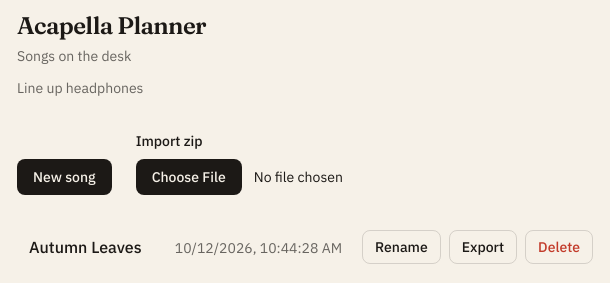
Test case: HomePage › cancels a rename without saving
Check: the text "Autumn Leaves" is shown, box [29,235,142,259]
Click the button with aria-label "Rename Autumn Leaves" at (401, 247), box [362,230,441,264]
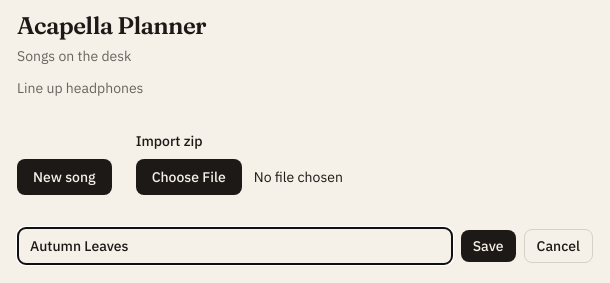
Replace the text in the field named "Song name" with "Something else" at (235, 246), box [17,227,453,265]
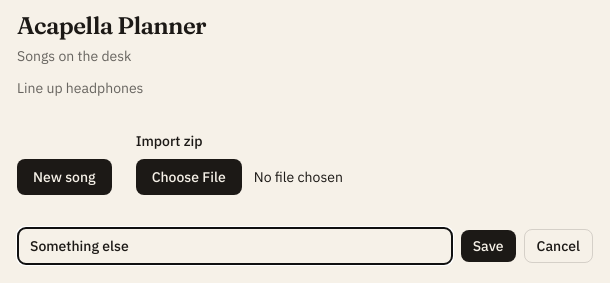
Click the button "Cancel" at (558, 246), box [524,229,593,263]
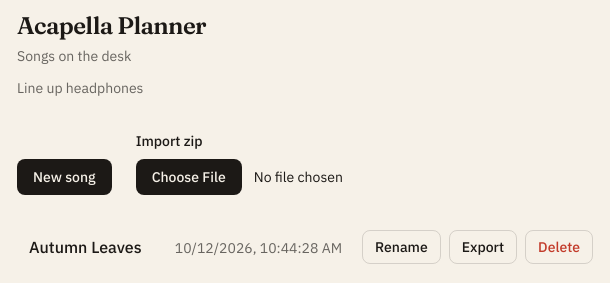
Check: the text "Autumn Leaves" is shown, box [29,235,142,259]
